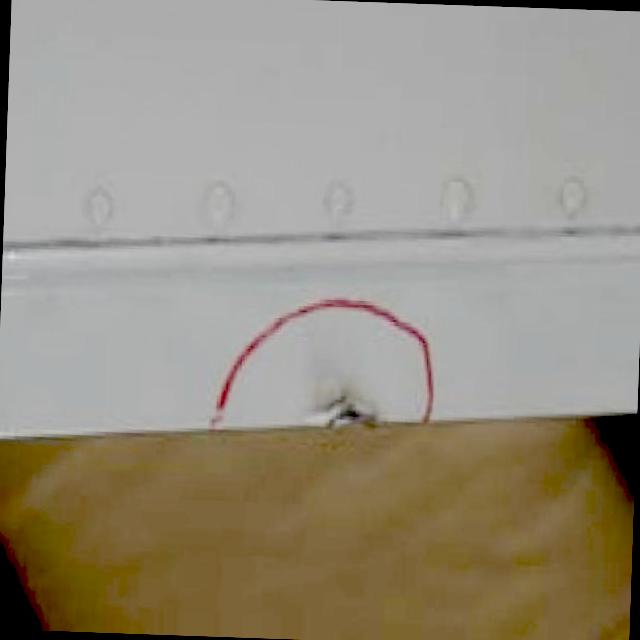crack: (290, 394, 382, 427)
